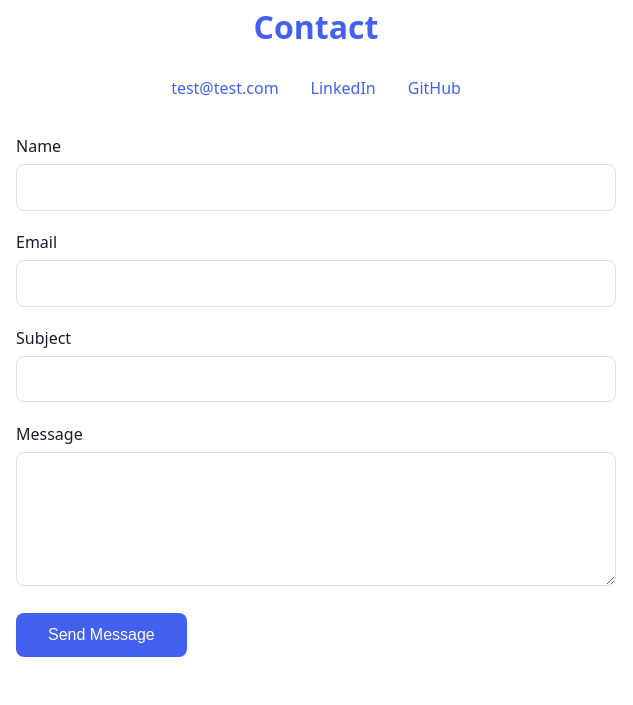
Test: Contact › shows validation errors on empty submit
Click the button "Send Message": [101, 635] box [16, 613, 187, 657]
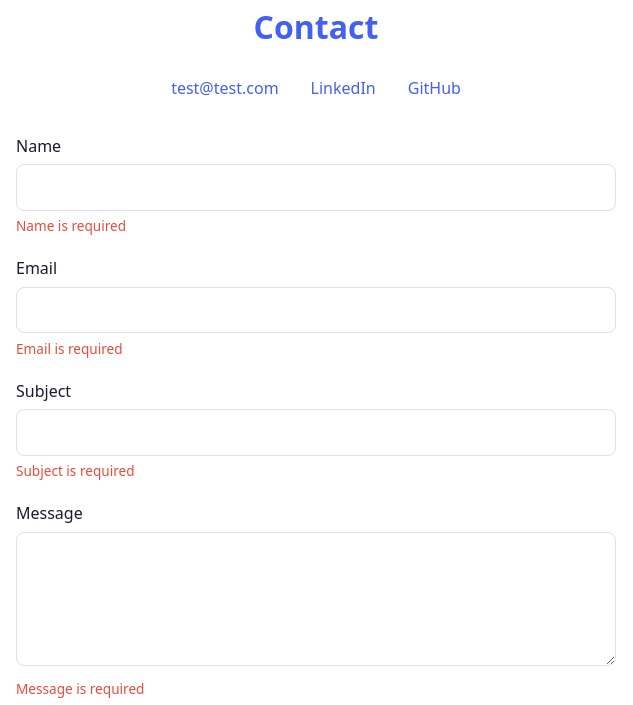
Expected: the text "Name is required" is shown, [16, 216, 126, 235]
Expected: the text "Email is required" is shown, [16, 339, 123, 358]
Expected: the text "Subject is required" is shown, [16, 461, 135, 480]
